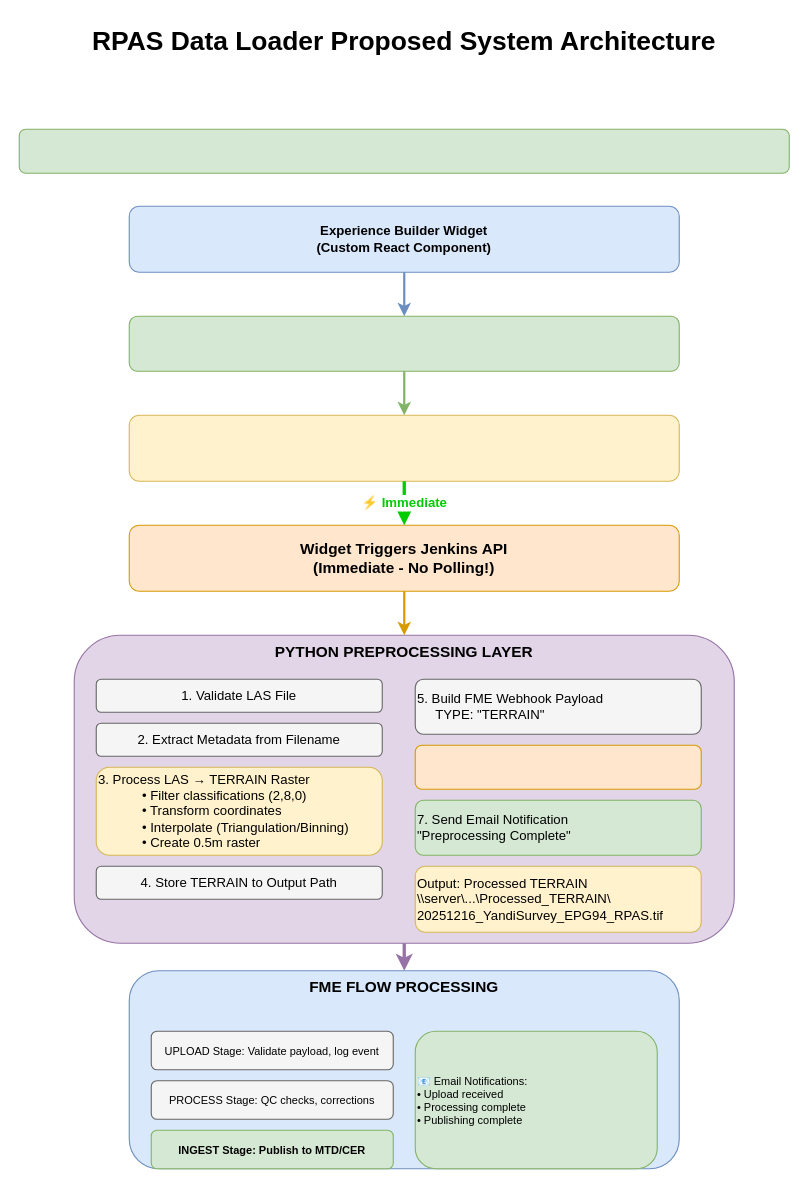
Image size: 809x1188. Some labels were removed from this diagram. Here are the shapes that lost their labels. From the top down, the centre of each, then its label:
At point 403,150: "NEW SYSTEM (Experience Builder + Python + FME Flow)".
At point 403,343: "ArcGIS GP Service (File Upload to Staging)".
At point 403,447: "Network Staging \\server\...\Received_RPAS_TLS\ (Raw LAS file)".
At point 557,766: "6. HTTP POST to FME Flow Webhook".
